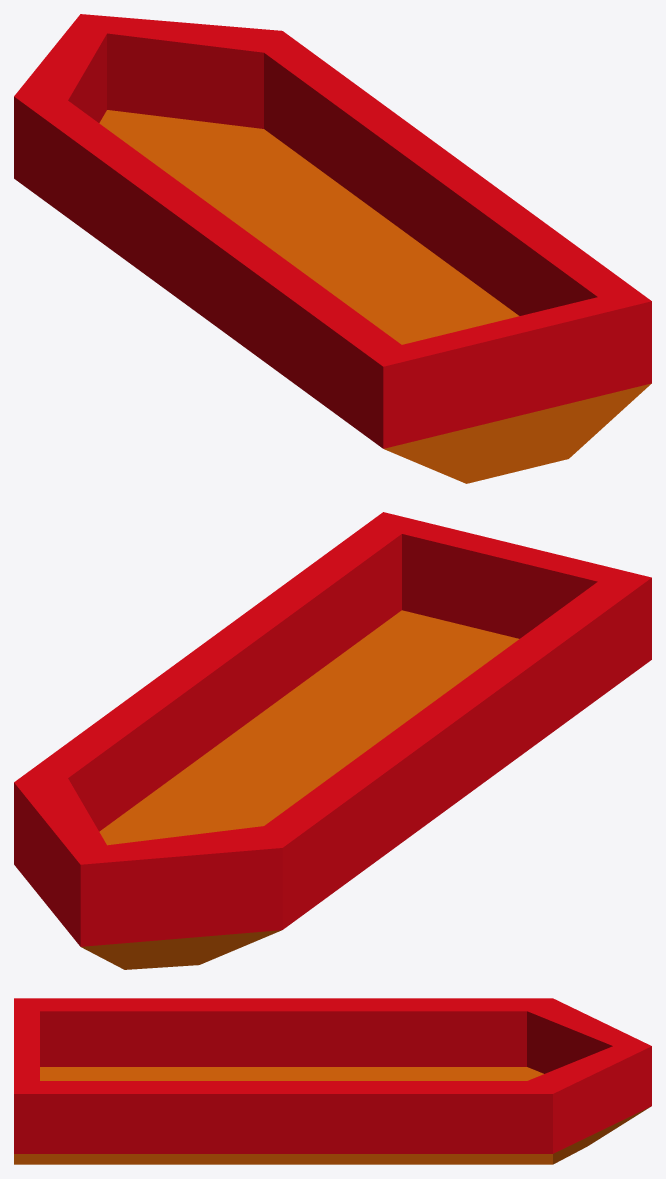
File: boat.fbx
The picture shows the model from 3 angles, top to bottom: view 1: azimuth 30°, elevation 25°; view 2: azimuth 150°, elevation 25°; view 3: azimuth 270°, elevation 25°; orthographic projection. The views are drawn at different scales.
Parts seen in each view (by area): view 1: Cube; view 2: Cube; view 3: Cube.
Boxes of the visible parts, box(x1,y1,x2,y2) form: Cube: box(14, 14, 651, 483); Cube: box(14, 512, 651, 969); Cube: box(14, 998, 651, 1164).
Size of the model in its own units: 200 by 97.8 by 564.
